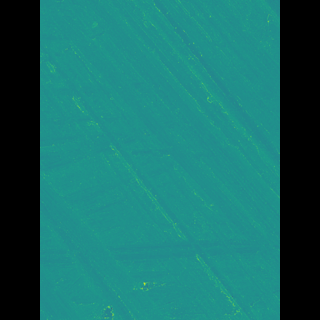Loch: (68, 166, 163, 320), (118, 232, 235, 261)
